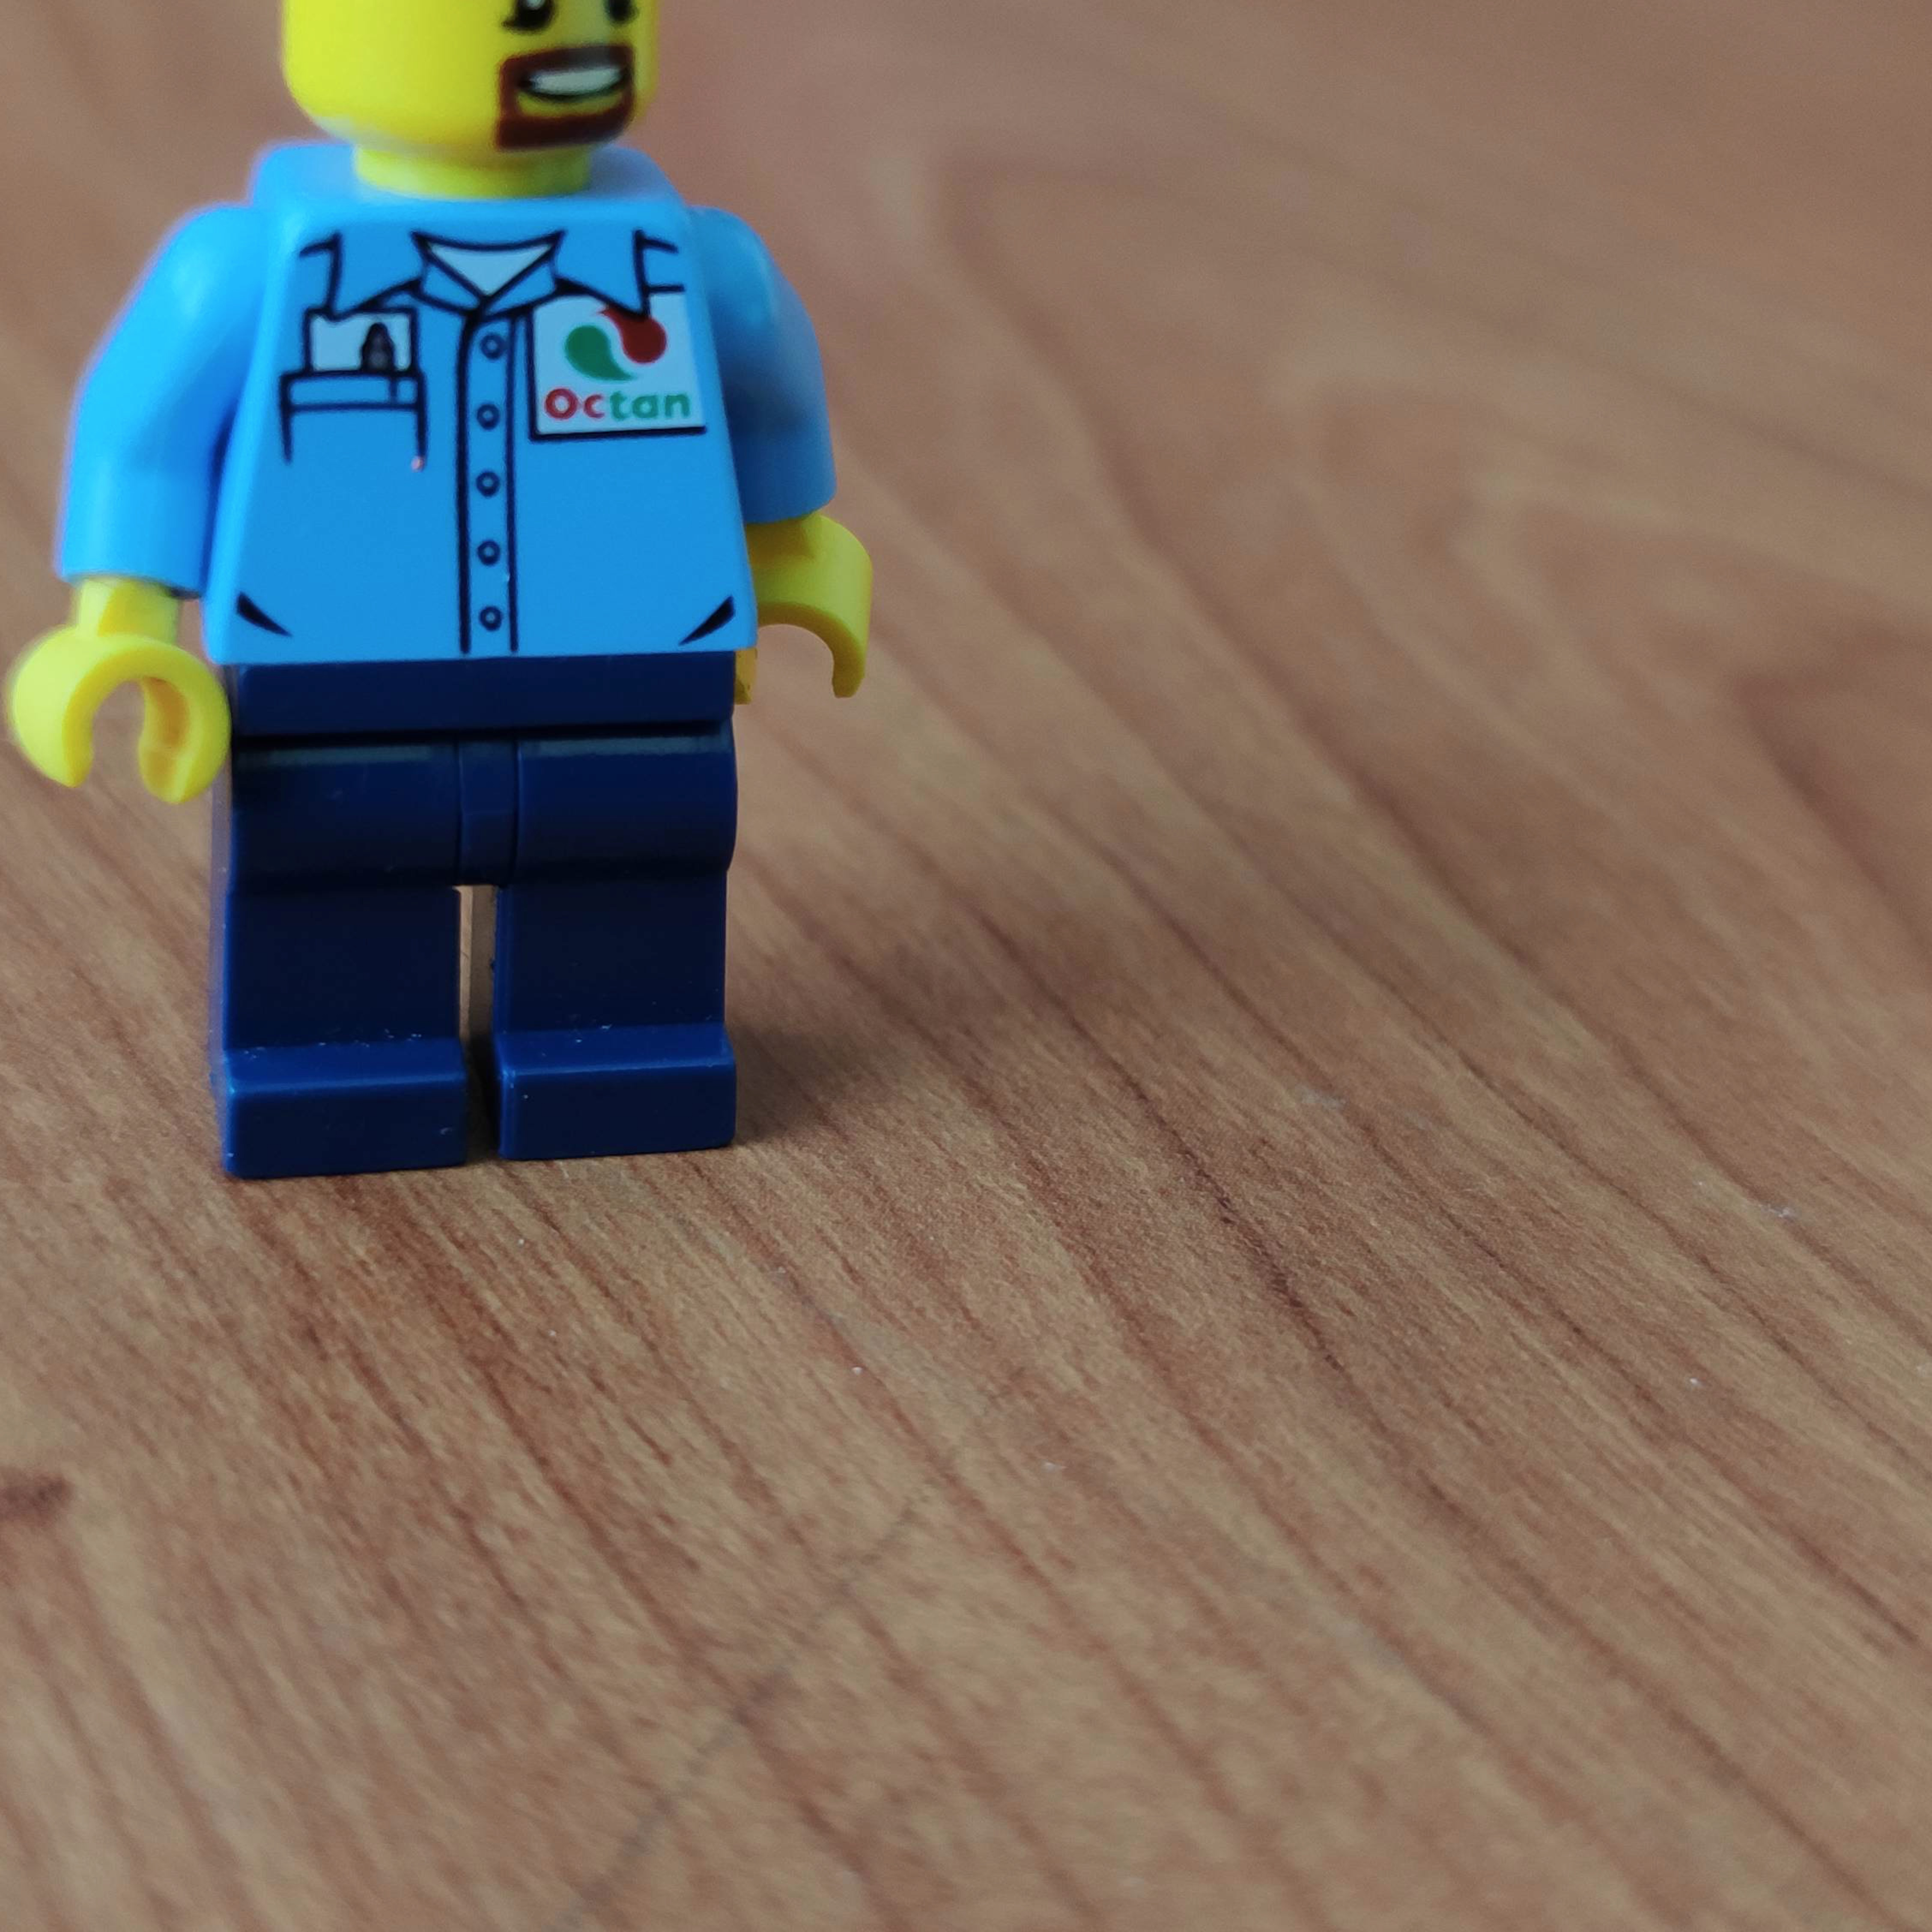lego: (0, 4, 874, 1187)
